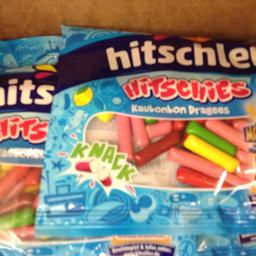candy: (44, 24, 254, 234)
